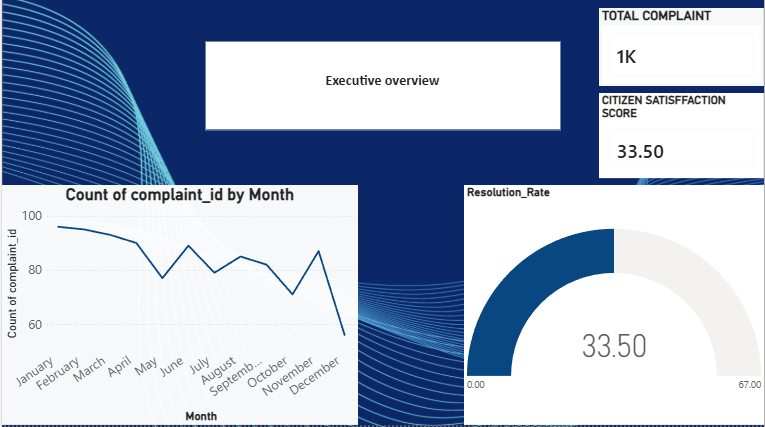

This screenshot's page, from the dashboard's own definition file:
{"tool":"powerbi","page":{"name":"Executive overview","canvas":[1280,720],"ordinal":3},"visuals":[{"type":"lineChart","fields":{"Category":["Smart_city xlsx.complaint_date.Variation.Date Hierarchy.Month"],"Y":["CountNonNull(Smart_city xlsx.complaint_id)"]},"box":[0,317.5,598,403.1],"z":0},{"type":"cardVisual","title":"TOTAL COMPLAINT","fields":{"Data":["CountNonNull(Smart_city xlsx.complaint_id)"]},"box":[1002.8,20.2,277.2,131],"z":1000},{"type":"cardVisual","title":"CITIZEN SATISFFACTION SCORE","fields":{"Data":["Smart_city xlsx.Citizen Satisfaction Score"]},"box":[1002.8,162.9,277.2,142.8],"z":2000},{"type":"gauge","fields":{"Y":["Smart_city xlsx.Resolution_Rate"]},"box":[776.1,317.5,503.9,403.1],"z":3000},{"type":"shape","box":[341,75.6,598,149.5],"z":3001},{"type":"textbox","box":[502.3,120.9,273.8,58.8],"z":3003}]}

Visuals, with their boxes in screenshot pixels (x1, y1, x2, y2), scaled from the page's 1280x720 canvas onto the 765x427 screenshot:
lineChart - Smart_city xlsx.complaint_date.Variation.Date Hierarchy.Month x CountNonNull(Smart_city xlsx.complaint_id): detection(0, 188, 357, 426)
"TOTAL COMPLAINT" cardVisual: detection(599, 12, 764, 90)
"CITIZEN SATISFFACTION SCORE" cardVisual: detection(599, 97, 764, 181)
gauge - Smart_city xlsx.Resolution_Rate: detection(464, 188, 764, 426)
shape: detection(204, 45, 561, 133)
textbox: detection(300, 72, 464, 107)
